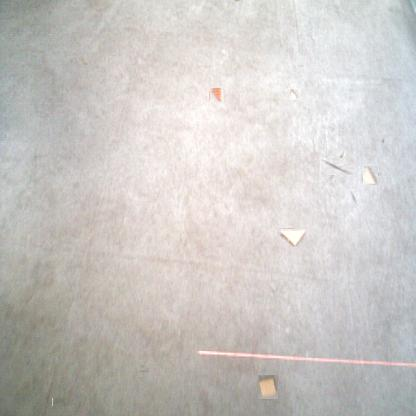dirty: (278, 228, 306, 246), (258, 375, 278, 399), (362, 167, 380, 184), (209, 88, 224, 102), (288, 88, 298, 100)
mark: (324, 154, 350, 179), (348, 189, 358, 204), (52, 398, 67, 406), (138, 366, 148, 376), (382, 137, 388, 145)
